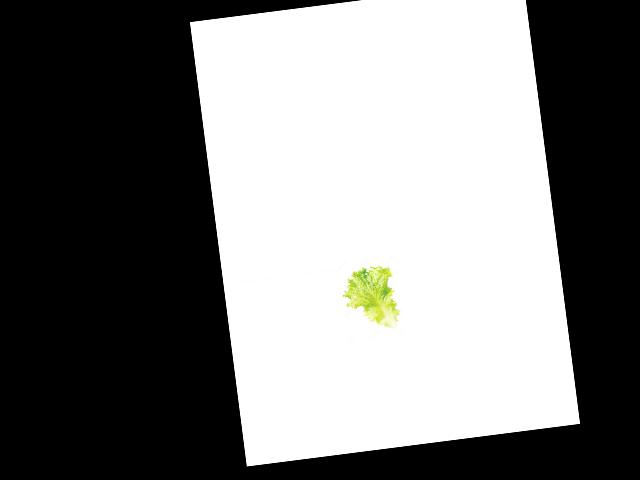lettuce: (340, 263, 399, 335)
